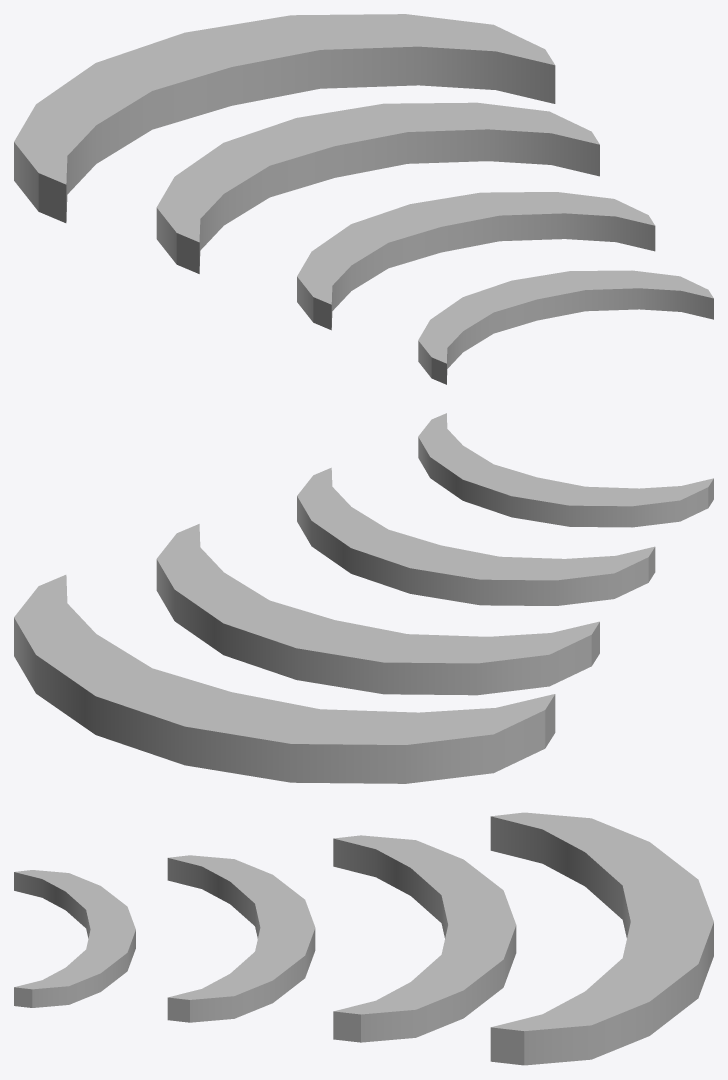
The model's file is ui_soundWaves.fbx.
The picture shows the model from 3 angles, top to bottom: view 1: azimuth 30°, elevation 25°; view 2: azimuth 150°, elevation 25°; view 3: azimuth 270°, elevation 25°; orthographic projection. The views are drawn at different scales.
Visible parts, largest first — view 1: pPlane15, pPlane16, pPlane17, pPlane18; view 2: pPlane15, pPlane16, pPlane17, pPlane18; view 3: pPlane15, pPlane16, pPlane17, pPlane18.
Boxes of the visible parts, x1,y1,x2,y2 form: pPlane15: [14, 14, 555, 222]; pPlane16: [156, 102, 599, 273]; pPlane17: [297, 192, 655, 330]; pPlane18: [418, 270, 713, 384]; pPlane15: [14, 575, 555, 783]; pPlane16: [156, 524, 599, 695]; pPlane17: [297, 467, 655, 605]; pPlane18: [418, 413, 713, 527]; pPlane15: [490, 812, 713, 1065]; pPlane16: [333, 835, 516, 1042]; pPlane17: [167, 855, 315, 1022]; pPlane18: [14, 870, 135, 1007].
Bounding box in the file's own units: 1.49 × 0.1093 × 2.02.
